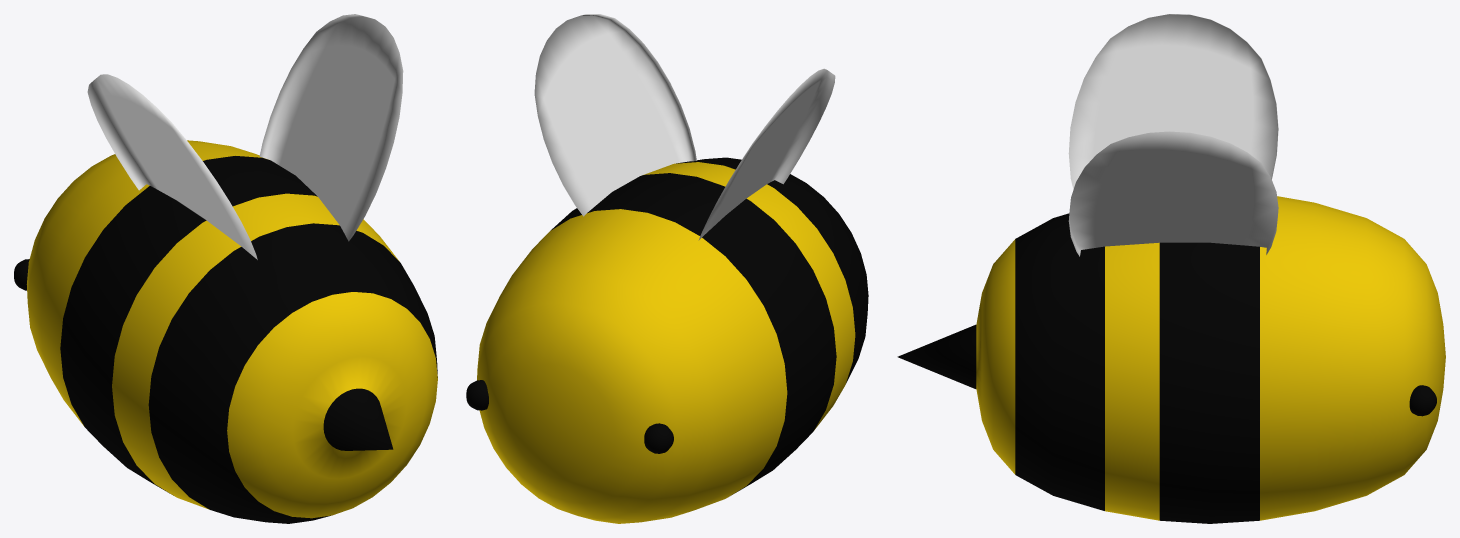
File: Abelha.glb
3 renders of one model, left to right at view 1: azimuth 30°, elevation 25°; view 2: azimuth 150°, elevation 25°; view 3: azimuth 270°, elevation 25°, orthographic. The views are drawn at different scales.
Parts seen in each view (by area): view 1: Sphere, Plane; view 2: Sphere, Plane, Sphere.002, Sphere.001; view 3: Sphere, Plane, Sphere.001.
Part boxes in pixels (<box>): Sphere: <box>26,140,437,523</box>; Plane: <box>87,14,403,259</box>; Sphere: <box>477,157,868,523</box>; Plane: <box>534,14,835,240</box>; Sphere.002: <box>644,423,673,453</box>; Sphere.001: <box>466,380,488,410</box>; Sphere: <box>897,196,1445,523</box>; Plane: <box>1068,14,1278,256</box>; Sphere.001: <box>1409,385,1436,416</box>.
Size of the model in its own units: 2 by 2.88 by 3.28.
